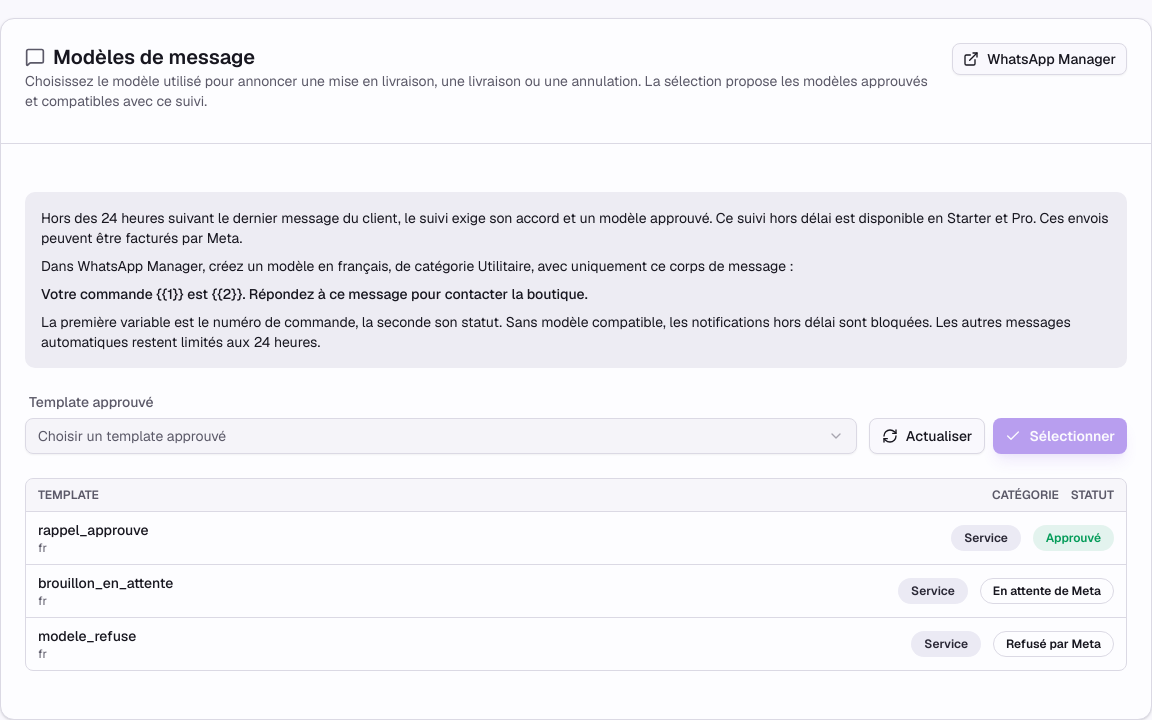
Scenario: WhatsAppAdvancedSections › modèles de message › ne propose que les modèles approuvés par Meta
(page scrolled)
Click the dropdown labelled "template approuvé": (132, 436) left=25, top=418, right=857, bottom=454
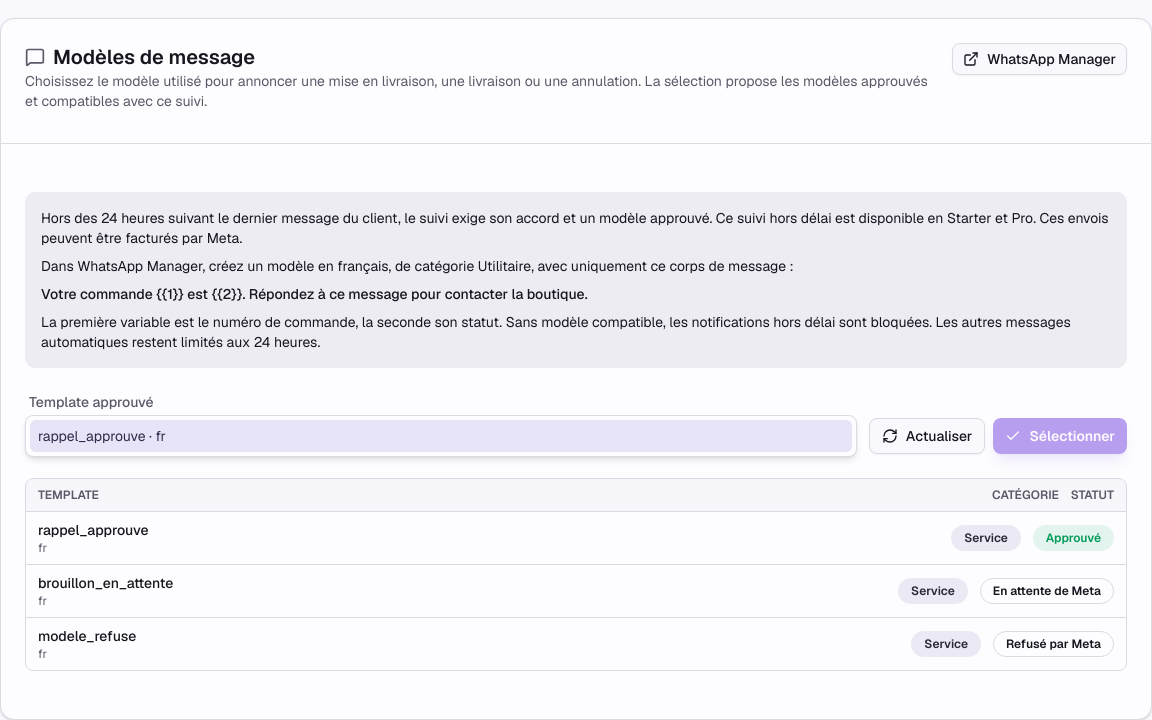
Expected: the option "rappel_approuve · fr" is shown, left=30, top=420, right=852, bottom=452
